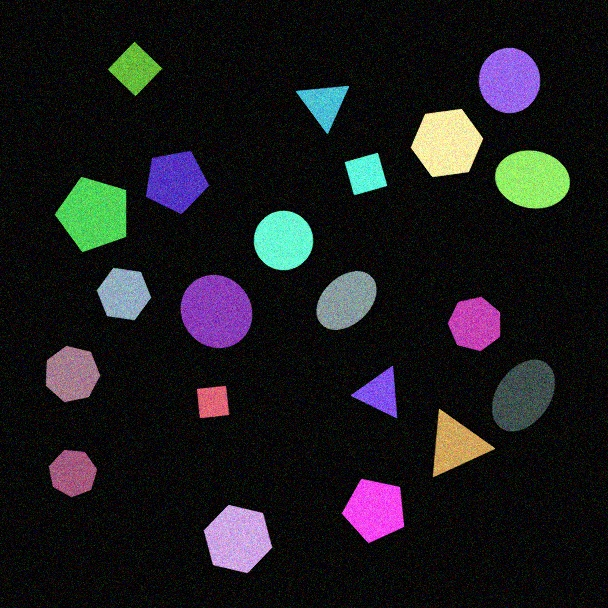Circulo: (180, 274, 253, 349), (478, 47, 541, 114), (253, 210, 314, 271)
Elipse: (491, 359, 556, 432), (494, 150, 571, 209), (316, 270, 377, 331)
Heptagono: (45, 345, 101, 403), (447, 296, 501, 352), (48, 449, 98, 498)
Hexagono: (410, 108, 484, 178), (203, 504, 273, 574), (96, 267, 152, 321)
Pentagono: (54, 176, 127, 253), (145, 150, 210, 215), (341, 478, 405, 544)
Quadrado: (107, 41, 163, 97), (344, 152, 388, 196), (196, 385, 230, 419)
Triangulo: (432, 408, 496, 478), (295, 85, 350, 135), (351, 365, 398, 419)
